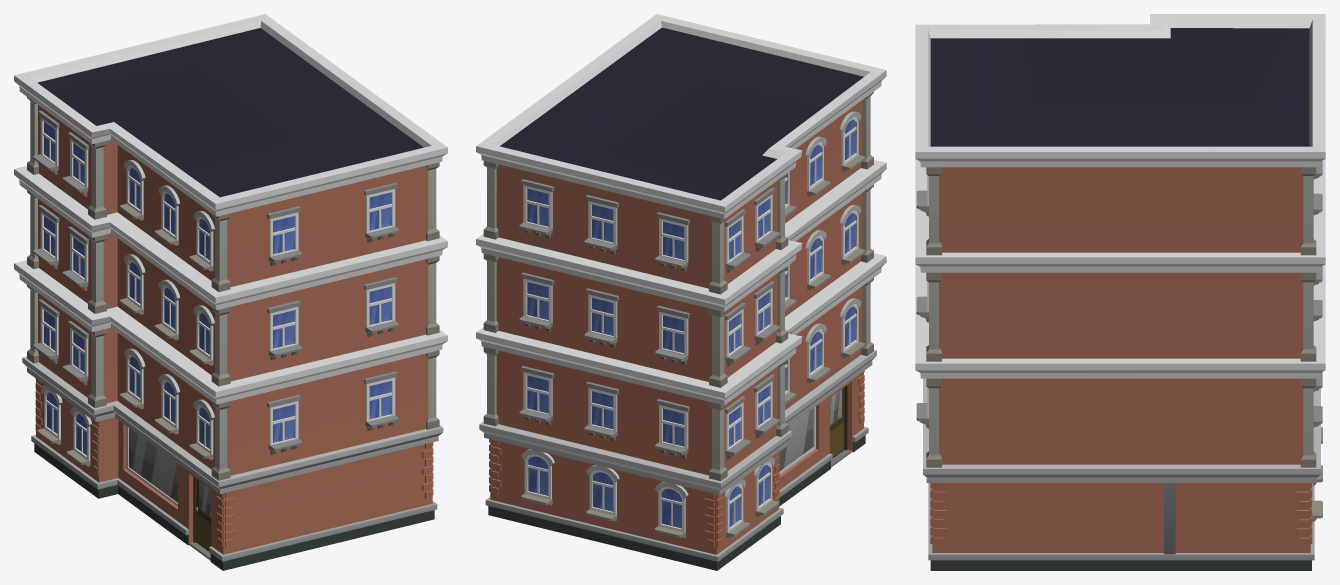
File: Building_1_4_R.glb
3 renders of one model, left to right at view 1: azimuth 30°, elevation 25°; view 2: azimuth 150°, elevation 25°; view 3: azimuth 270°, elevation 25°, orthographic. The views are drawn at different scales.
Parts seen in each view (by area): view 1: Building_1_4_R; view 2: Building_1_4_R; view 3: Building_1_4_R.
Boxes of the visible parts, box(x1,y1,x2,y2) form: Building_1_4_R: box(14, 14, 447, 570); Building_1_4_R: box(476, 14, 886, 570); Building_1_4_R: box(915, 14, 1325, 570).
Bounding box in the file's own units: 8.41 × 12.01 × 10.57.
Materials: 3 (3 with a texture image).
